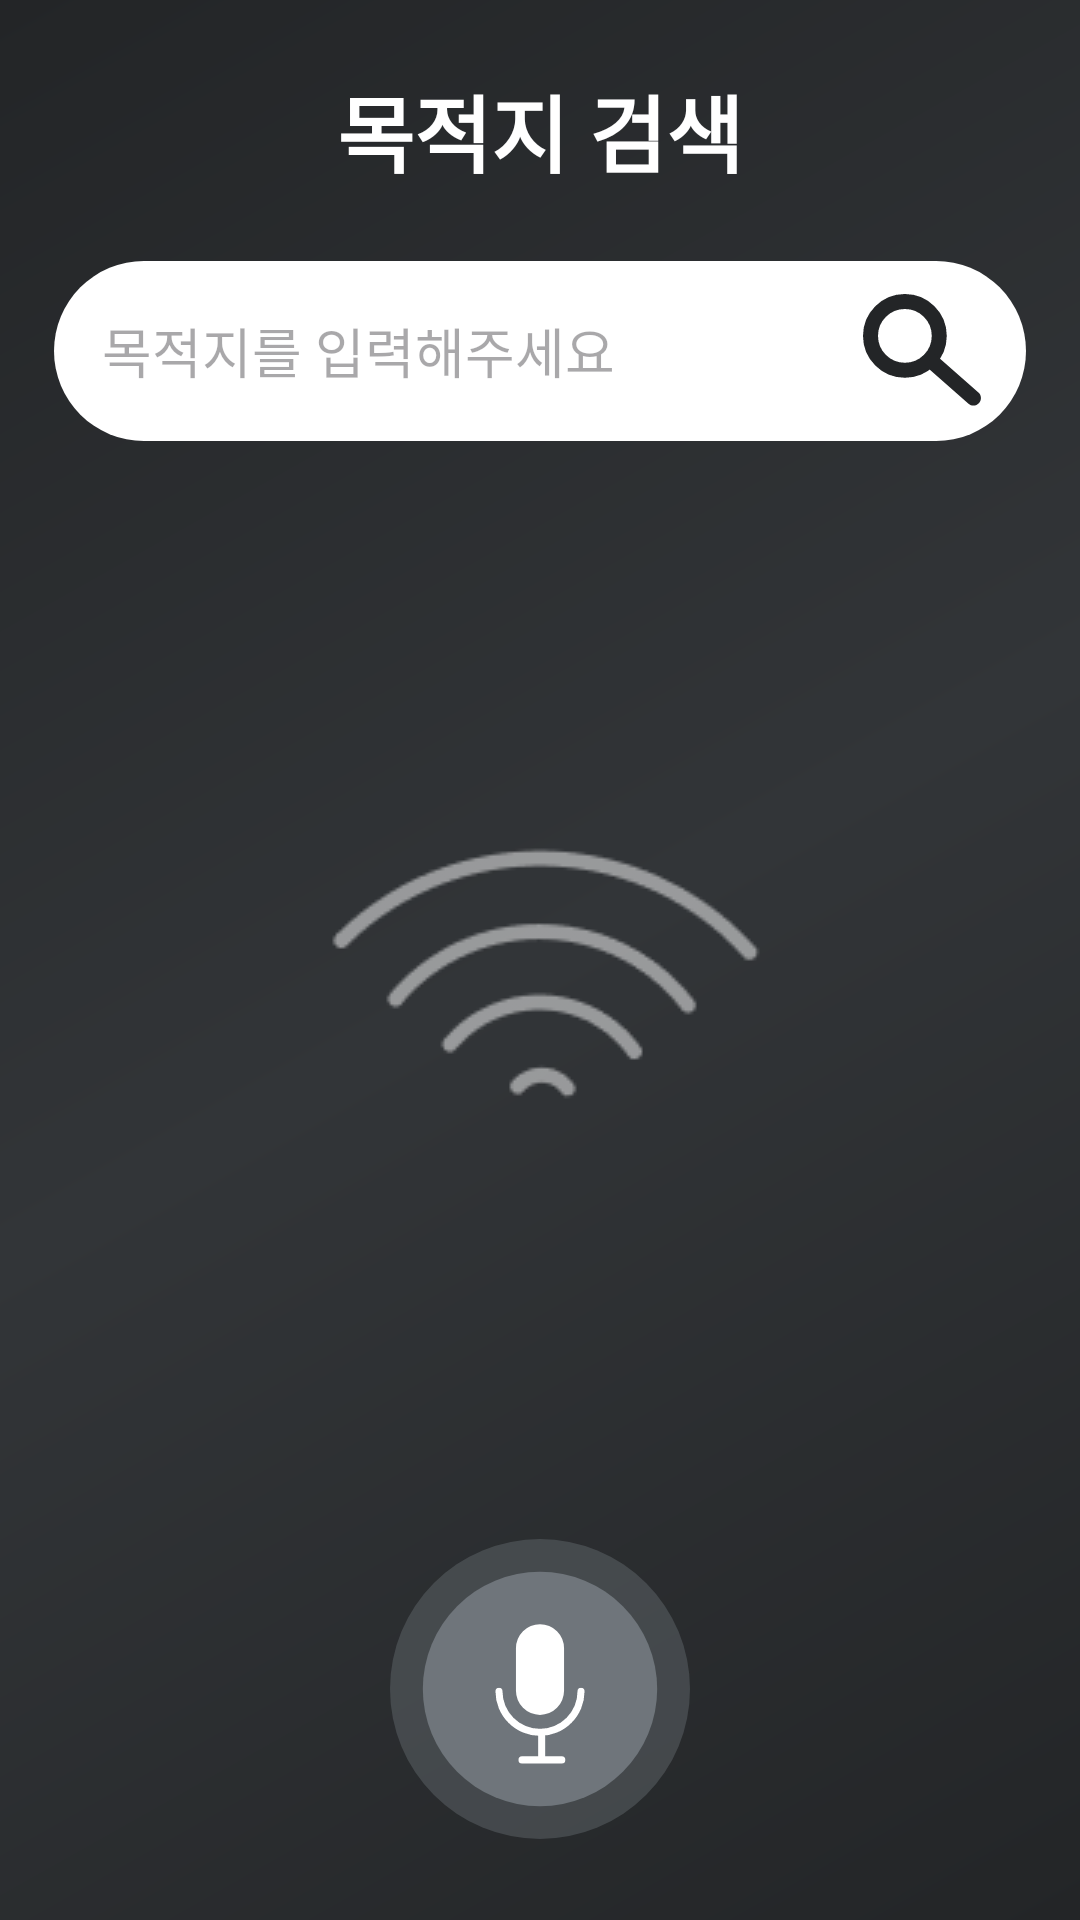

Where icons sit on this 1080x1920 app screen, as [x1=x1, y1=y1, x2=x2, y2=y2]:
검색 버튼입니다: [x1=863, y1=294, x2=981, y2=406]
음성인식 버튼입니다. 누르거나 화면을 흔들어주세요: [x1=390, y1=1539, x2=690, y2=1839]
